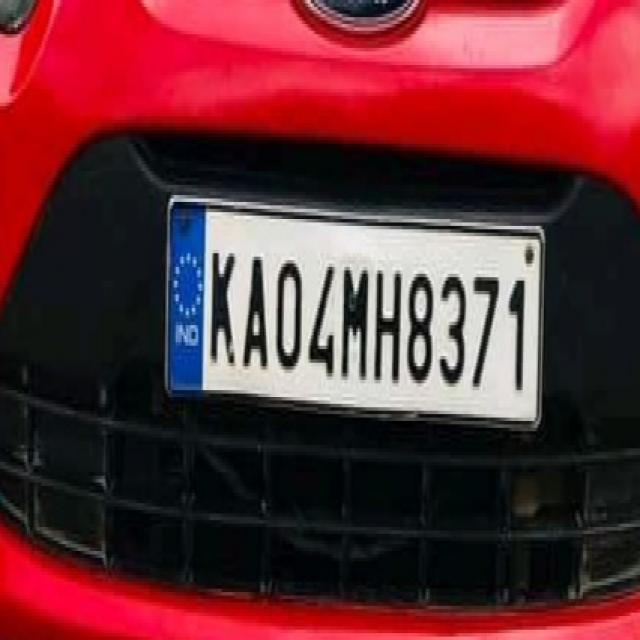0: (274, 247, 304, 378)
1: (506, 262, 531, 404)
3: (437, 268, 472, 393)
4: (307, 250, 337, 382)
7: (469, 258, 504, 398)
8: (406, 261, 440, 393)
A: (242, 242, 272, 382)
H: (372, 254, 404, 407)
K: (204, 243, 237, 376)
M: (339, 240, 371, 384)
